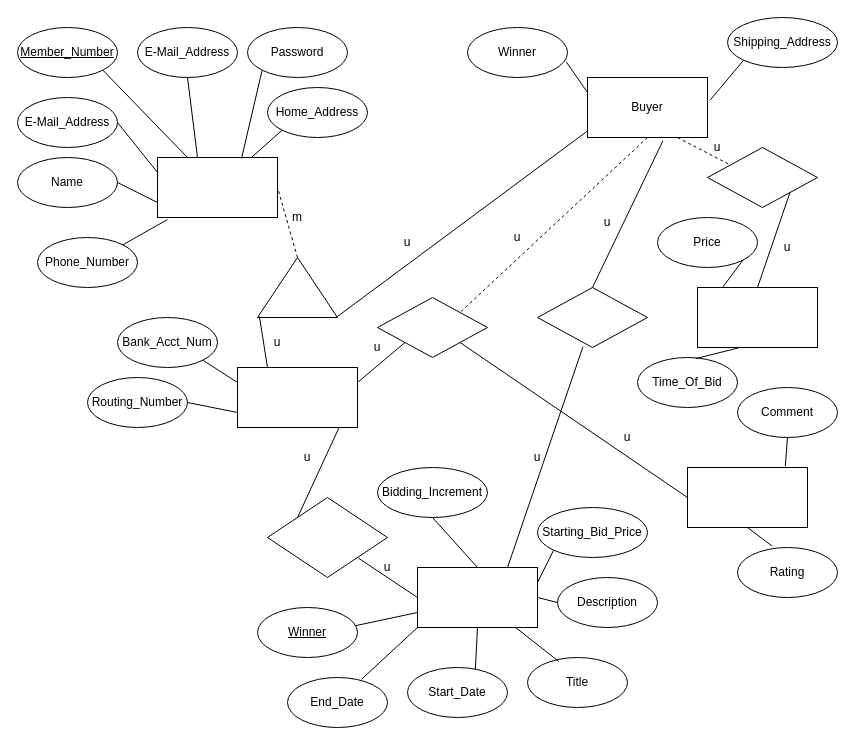
Image size: 855x745. Some labels were removed from this diagram. Here are the shapes that lost their labels. From the top down, the box of each, then its label:
(156, 156, 278, 218): Members
(706, 146, 818, 208): Make_Bid
(256, 256, 338, 318): ISA
(376, 296, 488, 358): Record
(536, 286, 648, 348): Wins
(696, 286, 818, 348): Bid
(236, 366, 358, 428): Seller
(686, 466, 808, 528): Feedback
(266, 496, 388, 578): Sells
(416, 566, 538, 628): Item
